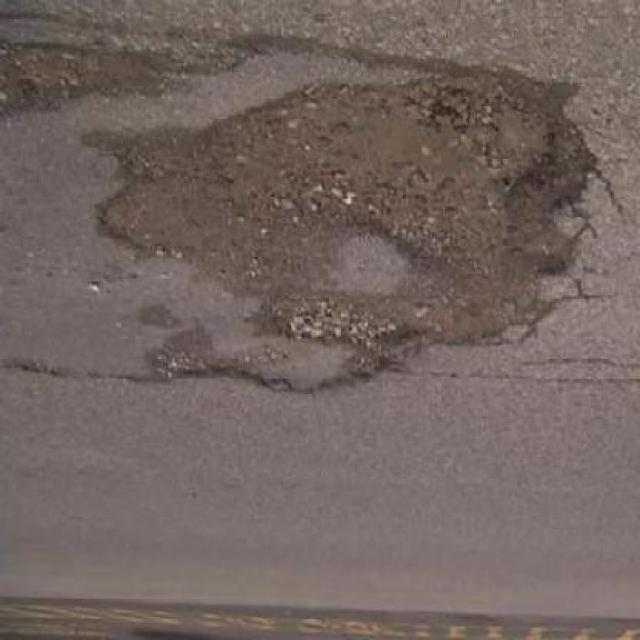pothole: (91, 67, 594, 384)
